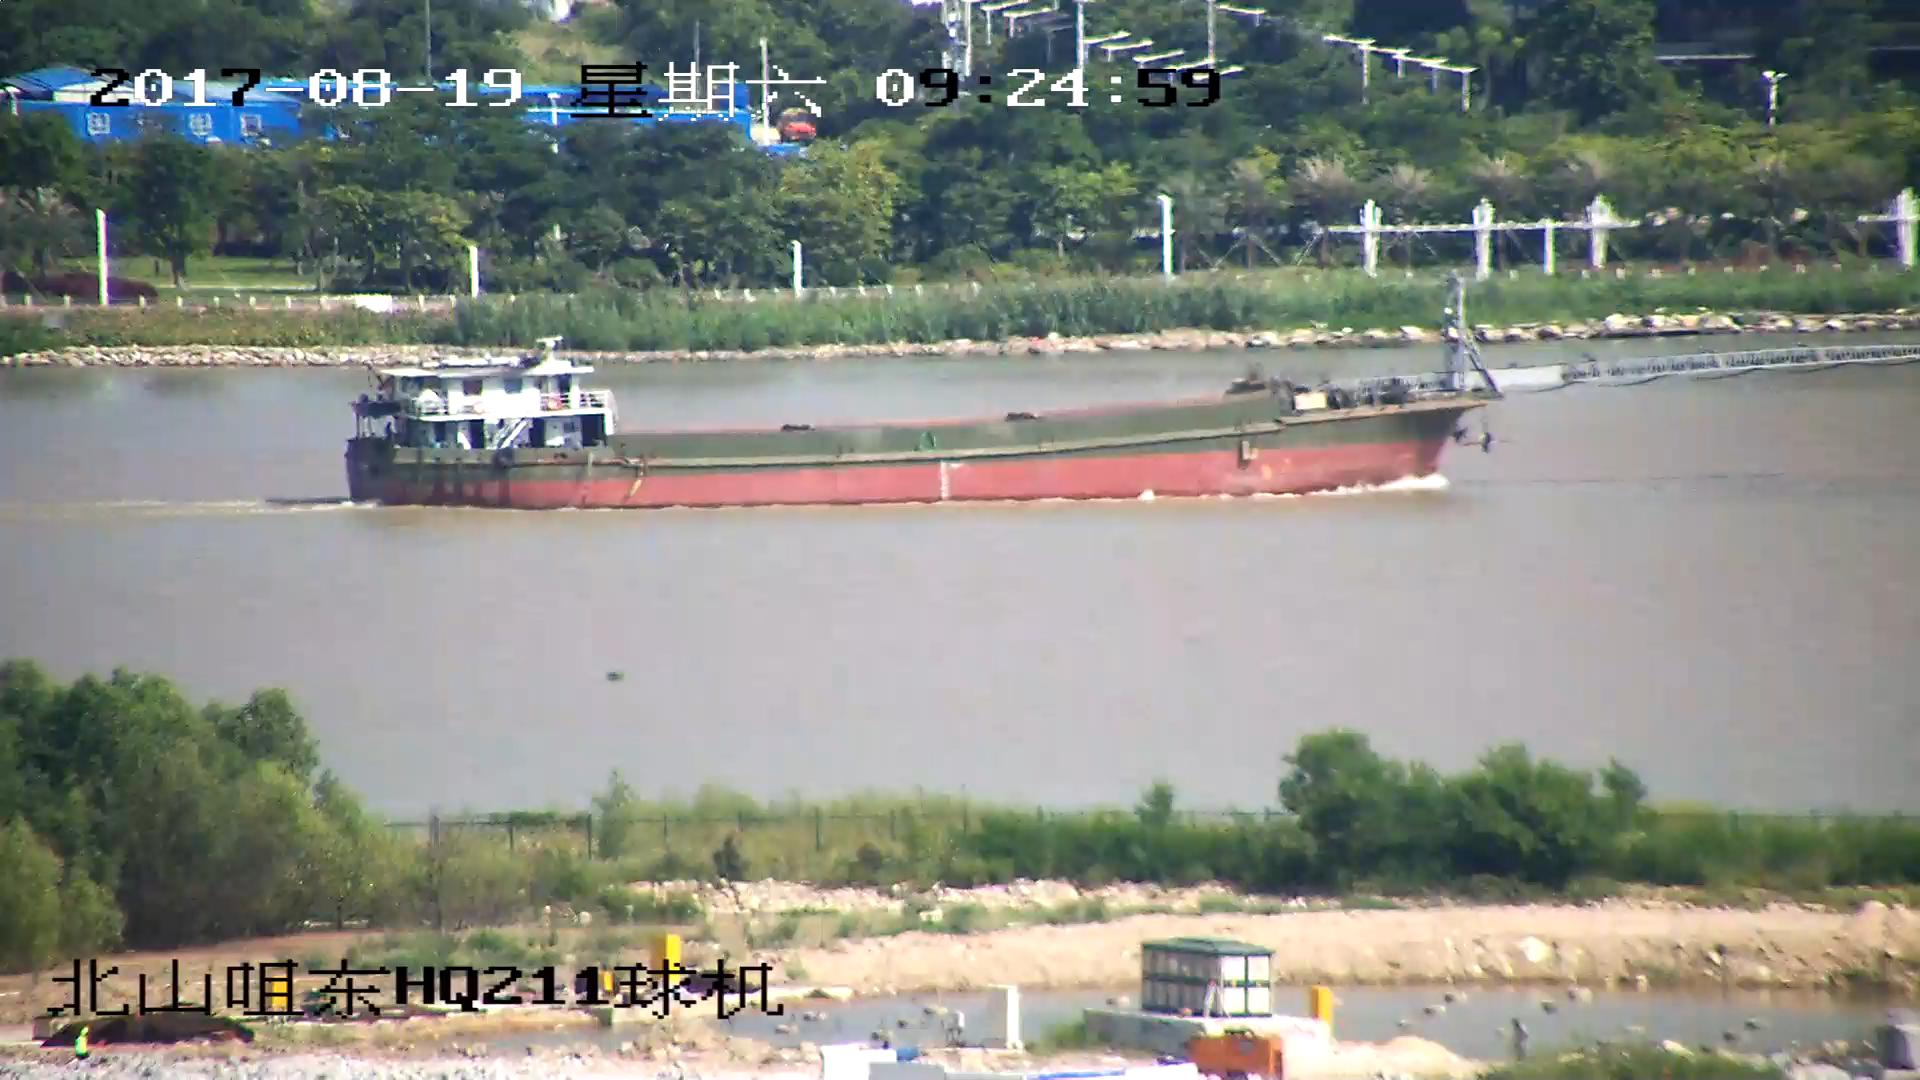bulk cargo carrier: (344, 270, 1920, 508)
